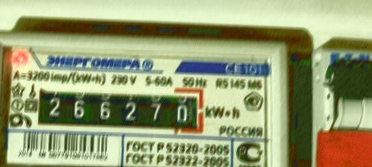0: (174, 101, 189, 122)
2: (47, 95, 61, 116), (124, 100, 138, 120)
6: (72, 97, 85, 118), (98, 99, 112, 118)
7: (150, 101, 161, 120)
screen: (26, 77, 210, 139)
